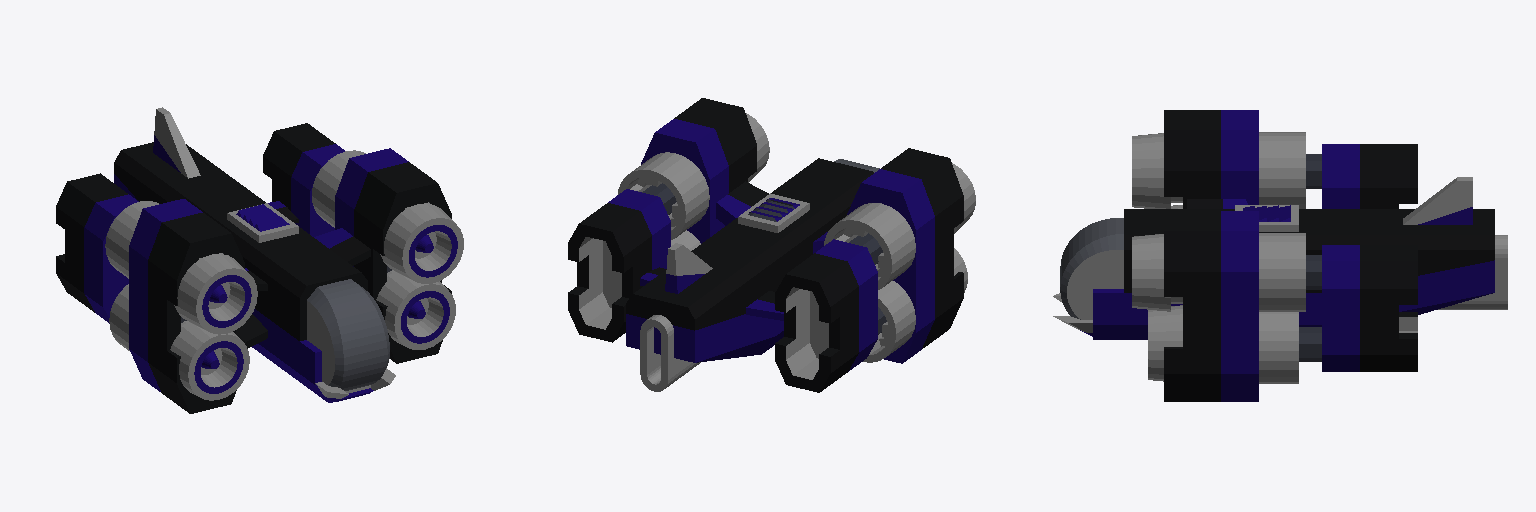
Rendered from EagleTransport.obj.
The picture shows the model from 3 angles: view 1: azimuth 30°, elevation 25°; view 2: azimuth 150°, elevation 25°; view 3: azimuth 270°, elevation 25°; orthographic projection.
Visible parts, largest first — view 1: mergedBlocks; view 2: mergedBlocks; view 3: mergedBlocks.
Part boxes in pixels (bbox=[...]): mergedBlocks: bbox=[56, 107, 463, 413]; mergedBlocks: bbox=[568, 98, 975, 392]; mergedBlocks: bbox=[1053, 110, 1507, 401].
Bounding box in the file's own units: 4 × 2.38 × 5.73.